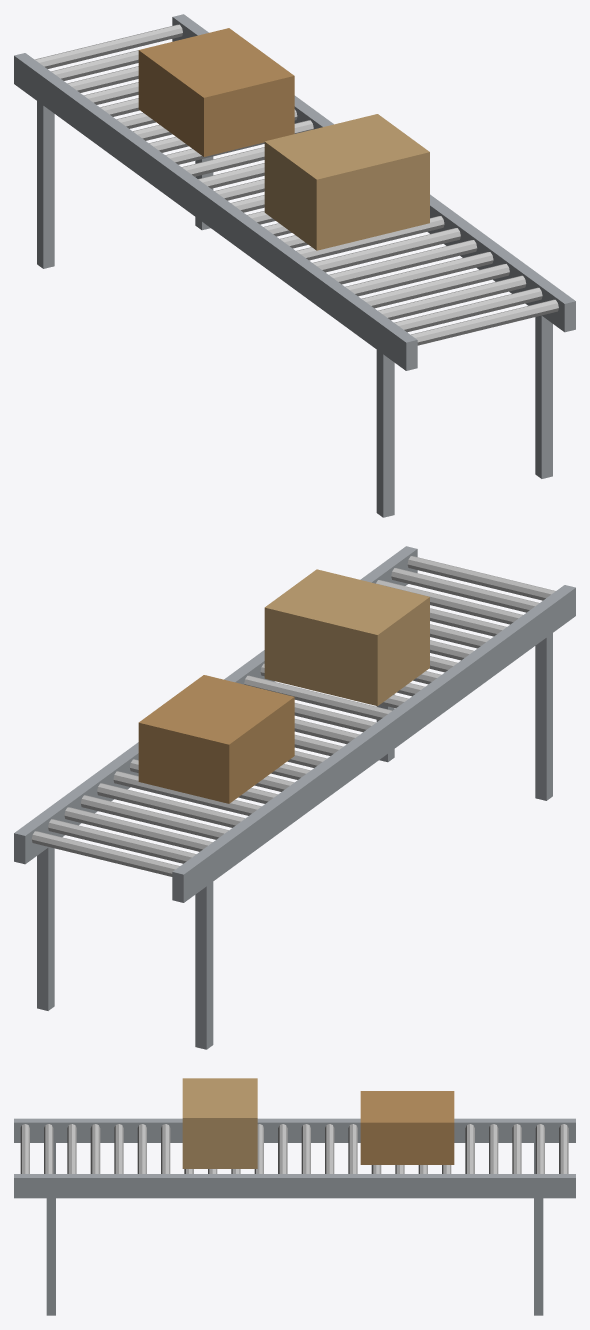
File: industrial.depot.conveyor.glb
The picture shows the model from 3 angles, top to bottom: view 1: azimuth 30°, elevation 25°; view 2: azimuth 150°, elevation 25°; view 3: azimuth 270°, elevation 25°; orthographic projection. The views are drawn at different scales.
Visible parts, largest first — view 1: main__steel_galvanised, main__steel_stainless, main__plywood, main__softwood; view 2: main__steel_galvanised, main__steel_stainless, main__plywood, main__softwood; view 3: main__steel_galvanised, main__steel_stainless, main__softwood, main__plywood.
Part boxes in pixels (<box>): main__steel_galvanised: <box>14,14,575,517</box>; main__steel_stainless: <box>35,24,558,345</box>; main__plywood: <box>264,114,429,250</box>; main__softwood: <box>138,28,294,156</box>; main__steel_galvanised: <box>14,546,575,1049</box>; main__steel_stainless: <box>31,556,555,876</box>; main__plywood: <box>264,569,429,706</box>; main__softwood: <box>138,675,294,803</box>; main__steel_galvanised: <box>14,1118,575,1315</box>; main__steel_stainless: <box>20,1124,568,1173</box>; main__softwood: <box>360,1091,454,1164</box>; main__plywood: <box>182,1078,257,1168</box>.
Size of the model in its own units: 0.75 by 1.11 by 3.
